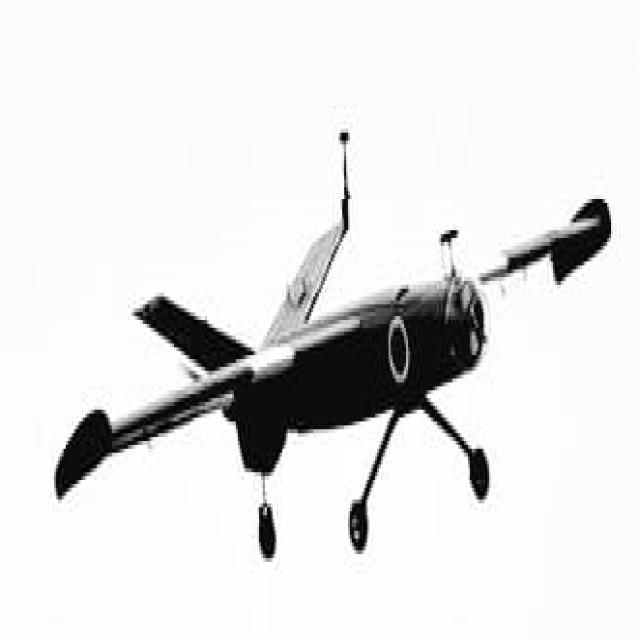iha: (29, 130, 487, 554), (480, 193, 608, 277)
